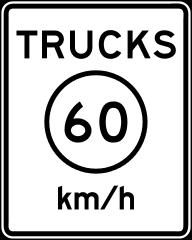Speed Limit -60-: (26, 60, 168, 218)
